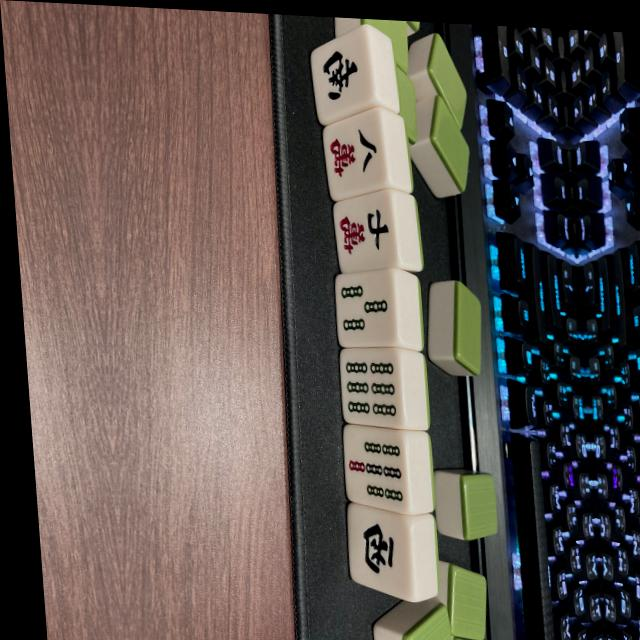3B: (334, 273, 395, 347)
6B: (338, 349, 402, 427)
7B: (343, 430, 411, 515)
7C: (332, 192, 398, 274)
8C: (320, 107, 389, 201)
SW: (310, 28, 377, 128)
WW: (348, 509, 411, 601)
